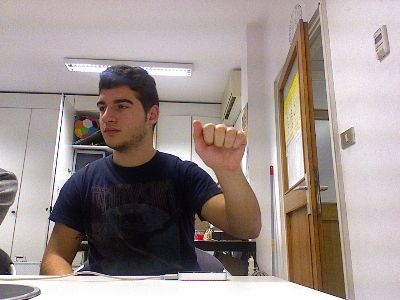石头: (190, 118, 247, 172)
